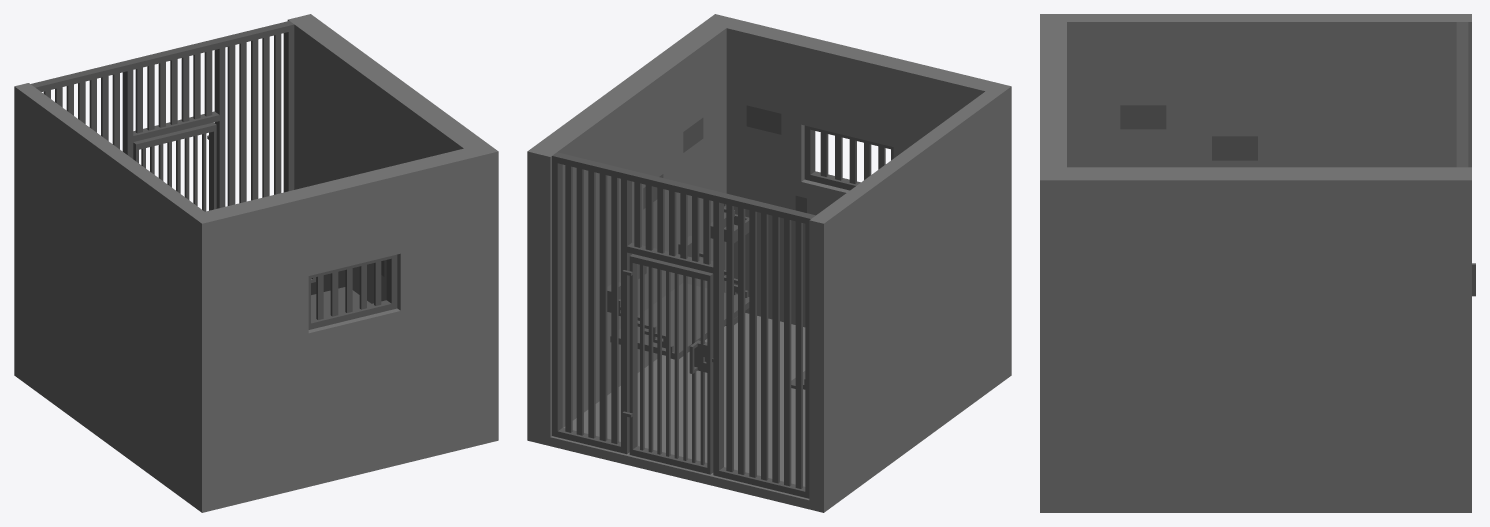
File: jail_cell.glb
3 renders of one model, left to right at view 1: azimuth 30°, elevation 25°; view 2: azimuth 150°, elevation 25°; view 3: azimuth 270°, elevation 25°, orthographic. The views are drawn at different scales.
Parts seen in each view (by area): view 1: Object_2; view 2: Object_2; view 3: Object_2.
Part boxes in pixels (left/top/right/bottom): Object_2: left=14, top=14, right=498, bottom=512; Object_2: left=527, top=14, right=1011, bottom=512; Object_2: left=1040, top=14, right=1475, bottom=512.
Size of the model in its own units: 2.99 by 2.79 by 3.31.
1 material, 1 textured.
